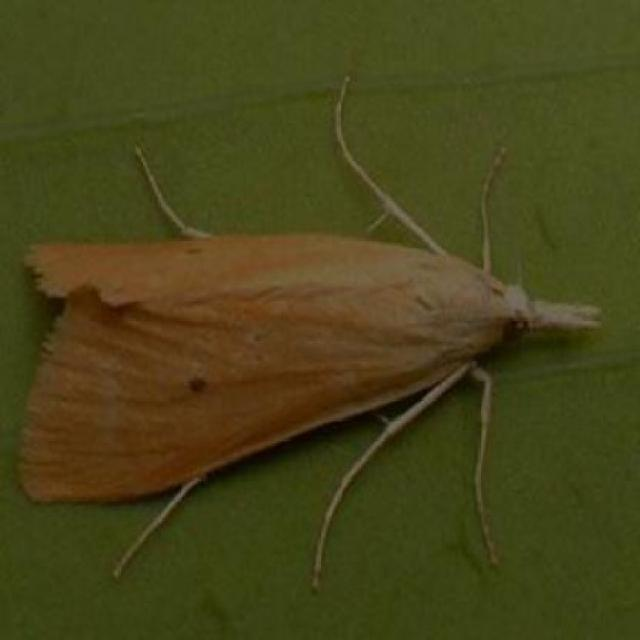stem-borer: (14, 229, 608, 542)
